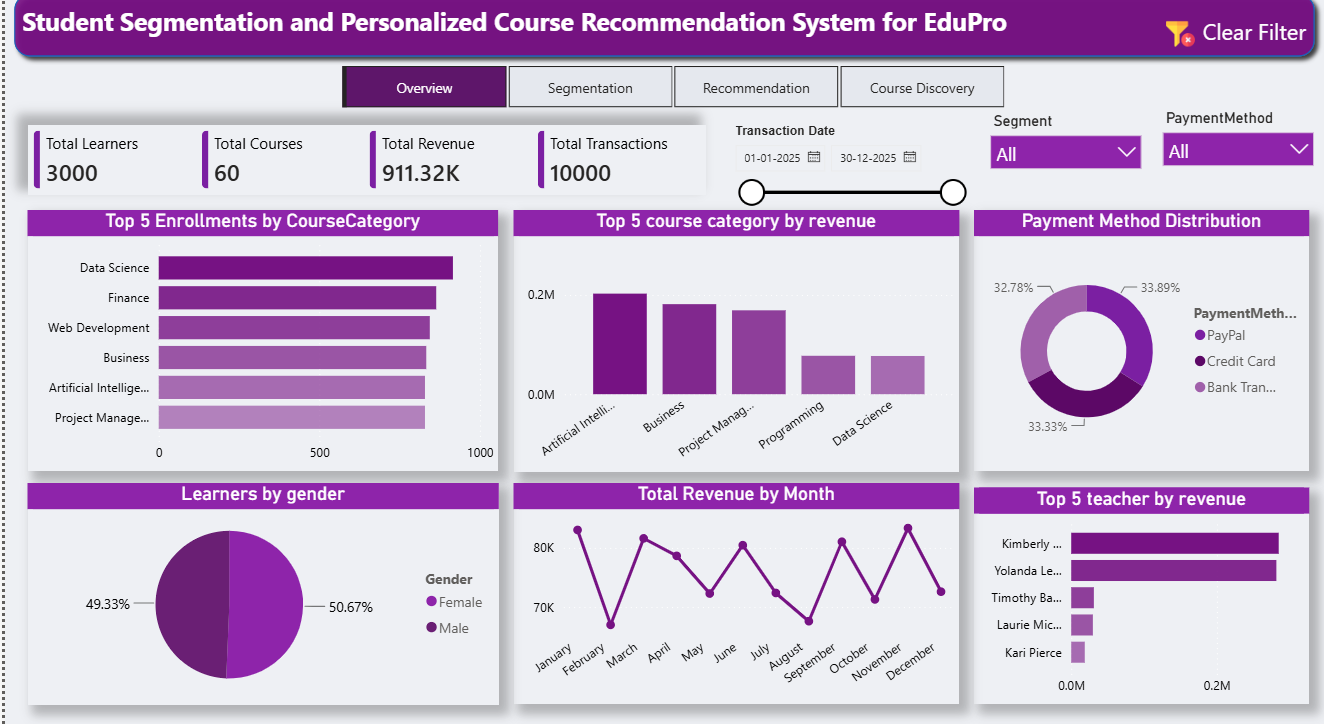

This screenshot's page, from the dashboard's own definition file:
{"tool":"powerbi","page":{"name":"Overview","canvas":[1280,720],"ordinal":0},"visuals":[{"type":"shape","box":[0,0,1279.7,78.3],"z":0},{"type":"textbox","box":[11.6,13.1,967.9,49.5],"z":1000},{"type":"textbox","box":[1156.6,25,123.4,42.2],"z":2000},{"type":"image","box":[1119.1,33.8,42.6,27.9],"z":3000},{"type":"clusteredBarChart","title":"Top 5 Enrollments by CourseCategory","fields":{"Category":["Courses.CourseCategory"],"Y":["Transactions.Enrollments"]},"box":[21.7,218.3,456.7,253.3],"z":4000},{"type":"clusteredColumnChart","title":"Top 5 course category by revenue","fields":{"Category":["Courses.CourseCategory"],"Y":["Transactions.Total Revenue"]},"box":[494.1,217.6,432.4,254.4],"z":5000},{"type":"donutChart","title":"Payment Method Distribution","fields":{"Category":["Transactions.PaymentMethod"],"Y":["CountNonNull(Transactions.TransactionID)"]},"box":[940,218.3,325,253.3],"z":6000},{"type":"pieChart","title":"Learners by gender","fields":{"Category":["Users.Gender"],"Y":["CountNonNull(Users.UserID)"]},"box":[21.8,483.2,457,215.4],"z":7000},{"type":"lineChart","fields":{"Category":["Transactions.TransactionDate.Variation.Date Hierarchy.Month"],"Y":["Transactions.Total Revenue"]},"box":[494.1,483.8,432.4,214.7],"z":8000},{"type":"clusteredBarChart","title":"Top 5 teacher by revenue","fields":{"Category":["Teachers.TeacherName"],"Y":["Transactions.Total Revenue"]},"box":[940,488.3,325,210],"z":9000},{"type":"slicer","fields":{"Values":["Transactions.TransactionDate"]},"box":[695.7,129,244.9,89.9],"z":10000},{"type":"slicer","fields":{"Values":["Learner_Profile.Segment"]},"box":[946.4,117.4,166.7,82.6],"z":11000},{"type":"slicer","fields":{"Values":["Transactions.PaymentMethod"]},"box":[1113,114.5,166.7,84.1],"z":12000},{"type":"cardVisual","fields":{"Data":["Users.Total Learners","Courses.Total Courses","Transactions.Total Revenue","Transactions.Total Transactions"]},"box":[21.7,134.8,658,68.1],"z":13000},{"type":"pageNavigator","box":[327.5,78.3,642,40.6],"z":14000}]}

Visuals, with their boxes in screenshot pixels (x1, y1, x2, y2), scaled from the page's 1280x720 canvas onto the 1324x724 screenshot:
shape: <box>0,0,1323,79</box>
textbox: <box>12,13,1013,63</box>
textbox: <box>1196,25,1323,68</box>
image: <box>1158,34,1202,62</box>
"Top 5 Enrollments by CourseCategory" clusteredBarChart: <box>22,220,495,474</box>
"Top 5 course category by revenue" clusteredColumnChart: <box>511,219,958,475</box>
"Payment Method Distribution" donutChart: <box>972,220,1308,474</box>
"Learners by gender" pieChart: <box>23,486,495,702</box>
lineChart - Transactions.TransactionDate.Variation.Date Hierarchy.Month x Transactions.Total Revenue: <box>511,486,958,702</box>
"Top 5 teacher by revenue" clusteredBarChart: <box>972,491,1308,702</box>
slicer - Transactions.TransactionDate: <box>720,130,973,220</box>
slicer - Learner_Profile.Segment: <box>979,118,1151,201</box>
slicer - Transactions.PaymentMethod: <box>1151,115,1323,200</box>
cardVisual - Users.Total Learners x Courses.Total Courses: <box>22,136,703,204</box>
pageNavigator: <box>339,79,1003,120</box>
